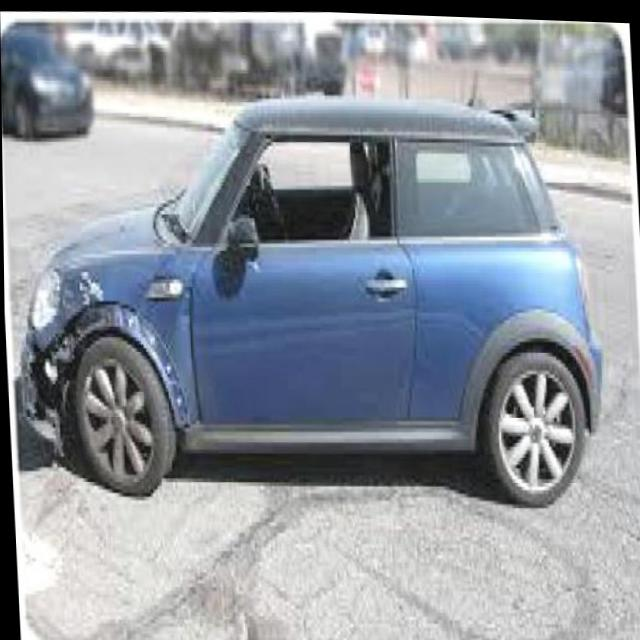Car-Damage: (9, 264, 190, 448)
